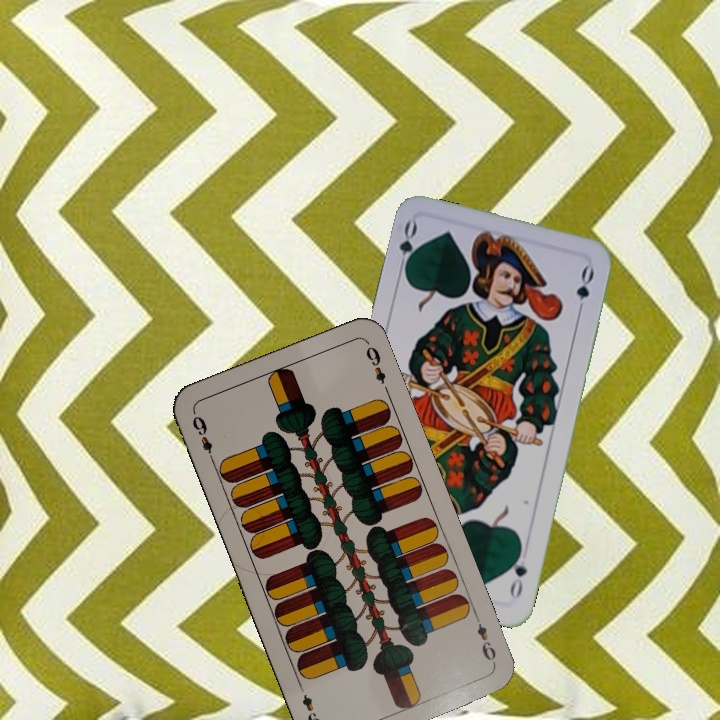E9: (470, 610, 499, 667), (188, 411, 217, 466)
GO: (394, 217, 421, 277), (505, 542, 530, 601)
